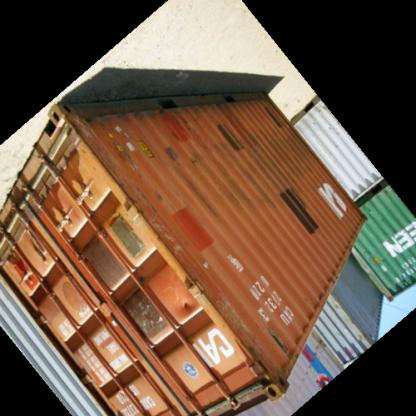Damage: (130, 200, 214, 312), (202, 299, 281, 393), (74, 124, 136, 214), (212, 180, 300, 204), (150, 138, 196, 178), (192, 283, 192, 321)
